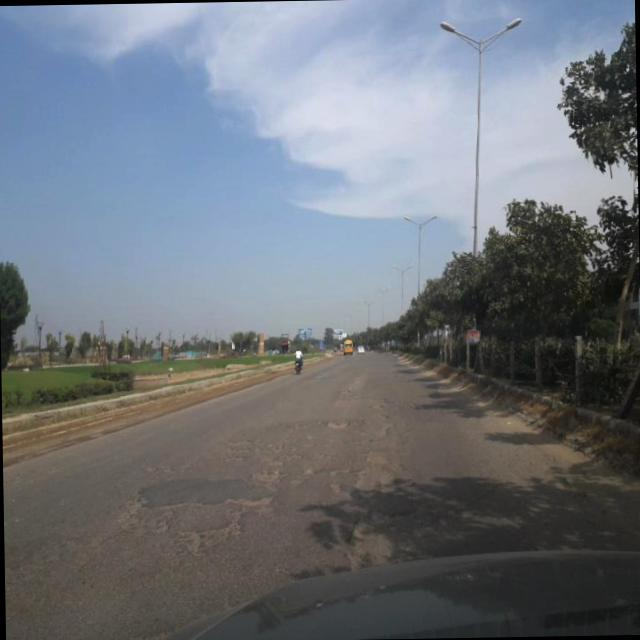pothole: (116, 486, 272, 554), (346, 438, 416, 498), (329, 506, 398, 566), (342, 385, 394, 435), (250, 426, 294, 478), (220, 429, 248, 464), (318, 409, 352, 436)
